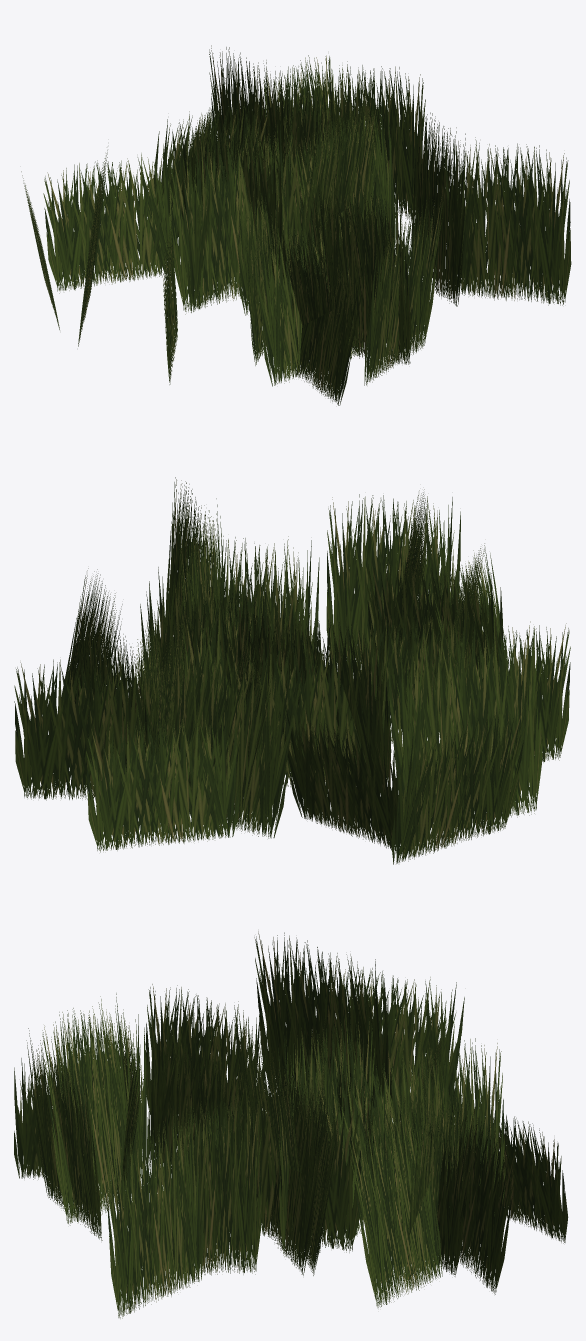
Rendered from GrassTuft_B.fbx.
3 views of the same model, one above another, from view 1: azimuth 30°, elevation 25°; view 2: azimuth 150°, elevation 25°; view 3: azimuth 270°, elevation 25° (orthographic). The views are drawn at different scales.
Parts seen in each view (by area): view 1: GrassTuft_B; view 2: GrassTuft_B; view 3: GrassTuft_B.
Part boxes in pixels (x1,y1,x2,y2): GrassTuft_B: [21, 45, 571, 405]; GrassTuft_B: [14, 477, 570, 864]; GrassTuft_B: [14, 931, 568, 1318].
Size of the model in its own units: 0.8996 by 0.4198 by 0.9247.
